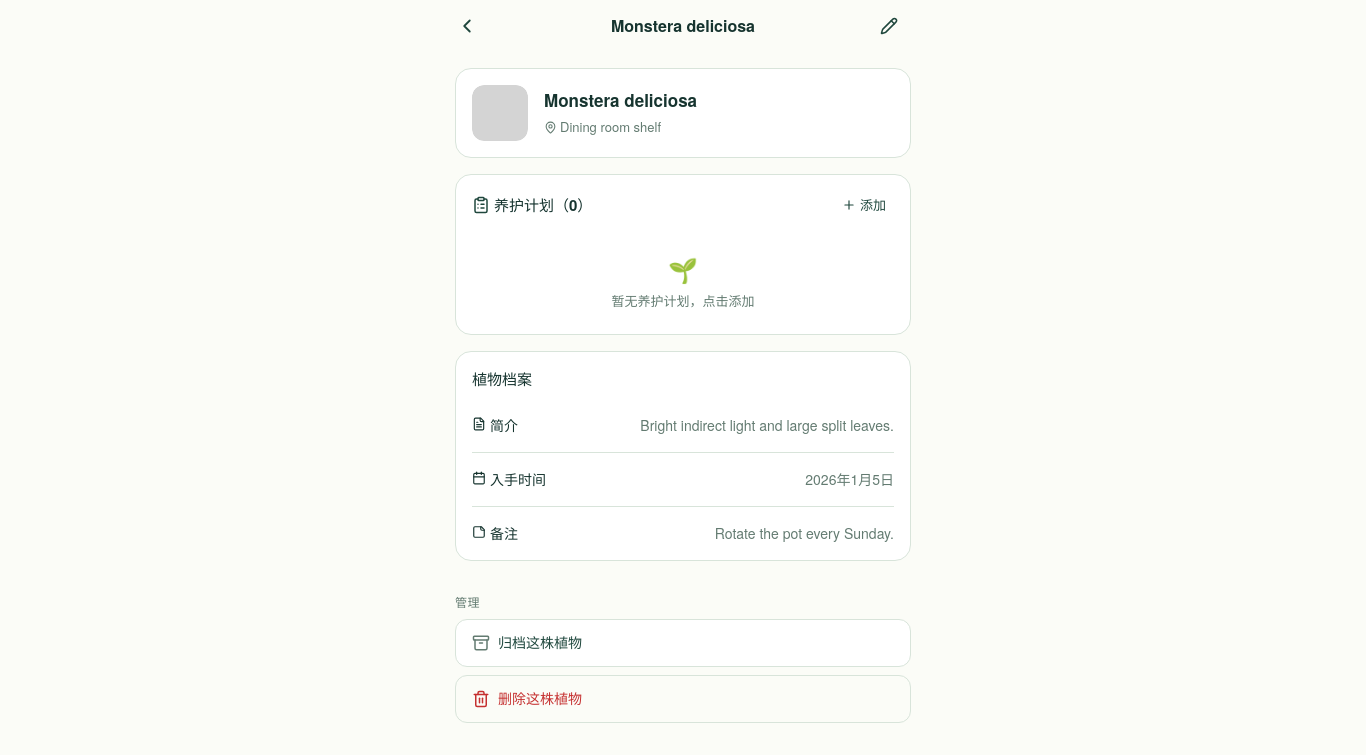
Test: AppShell smoke coverage › requires explicit confirmation before archiving a plant and updates the detail status
# 归档入口为直接按钮（管理区），无溢出菜单。
Click the button "归档这株植物": (540, 642) left=455, top=618, right=911, bottom=666
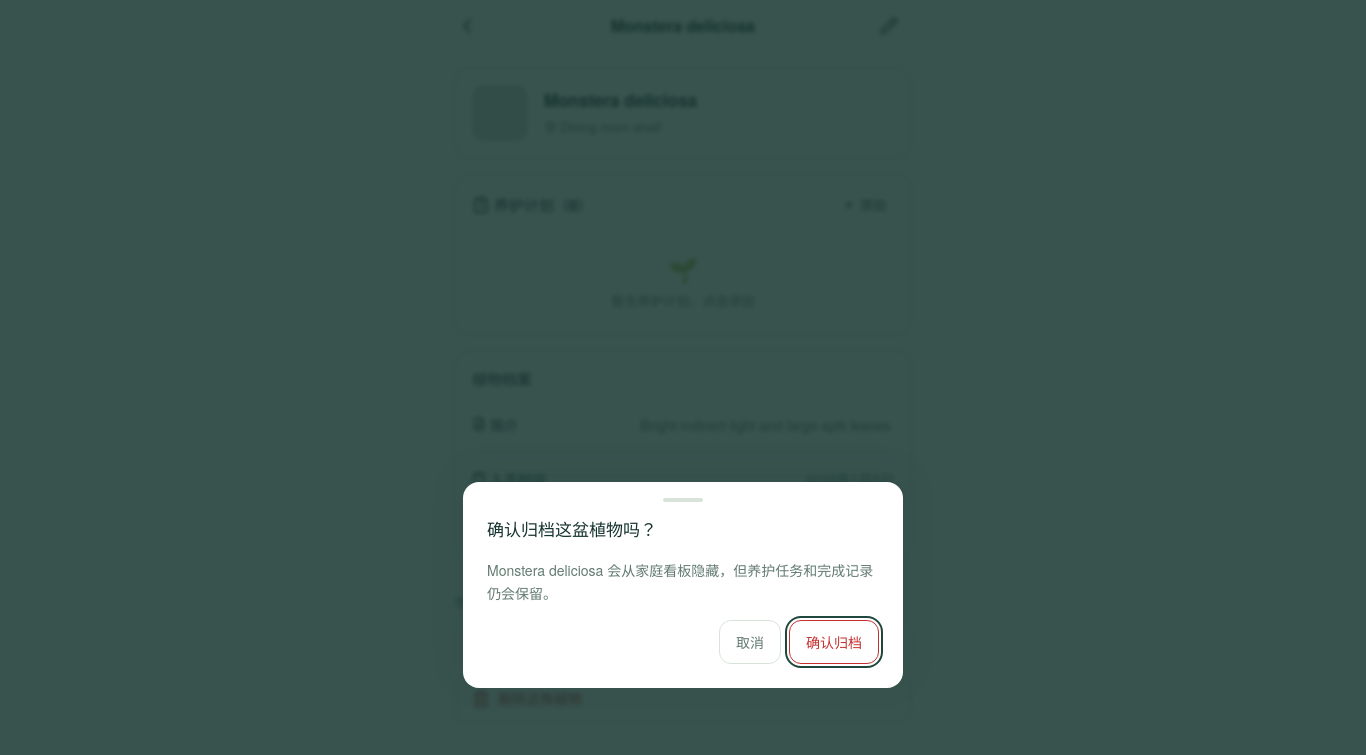
Now the text "确认归档这盆植物吗？" is shown, box left=487, top=521, right=657, bottom=540
Click the button "确认归档": (834, 642) left=789, top=620, right=879, bottom=664
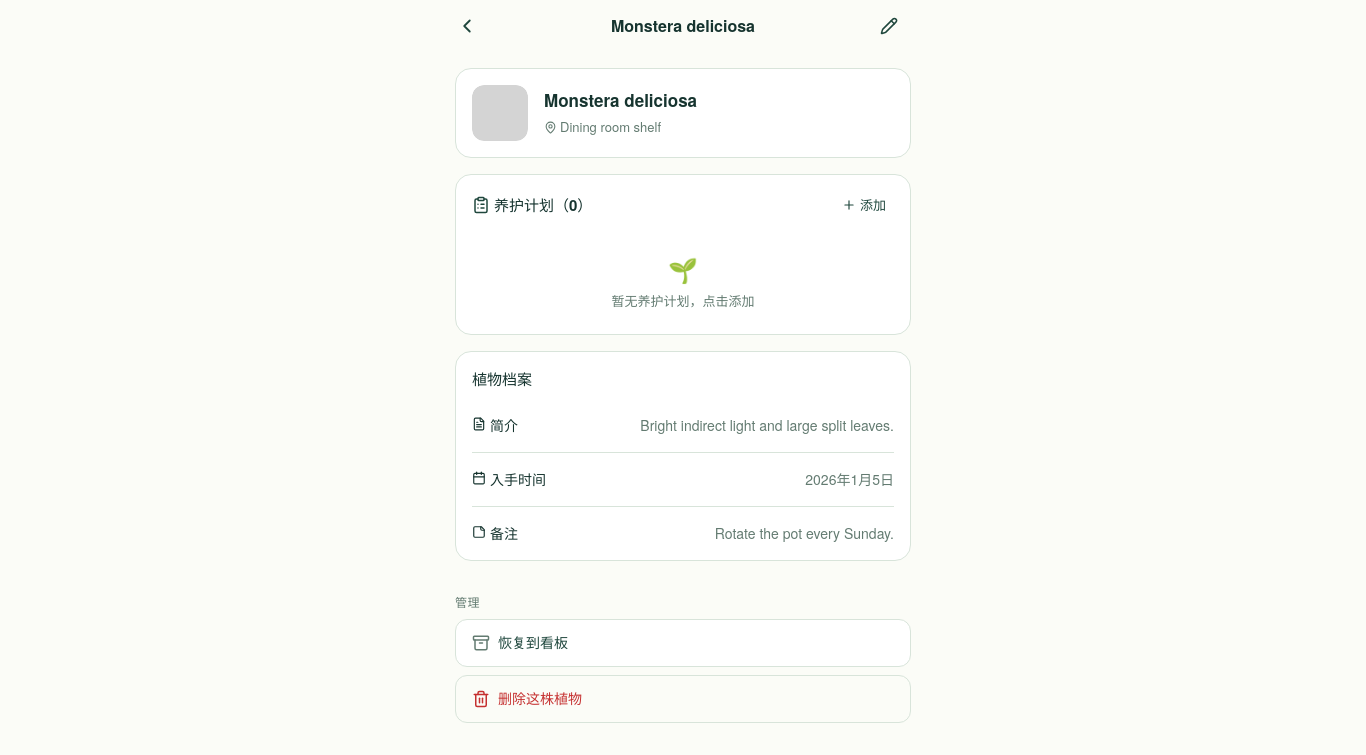
Now the button "恢复到看板" is shown, box left=455, top=618, right=911, bottom=666
